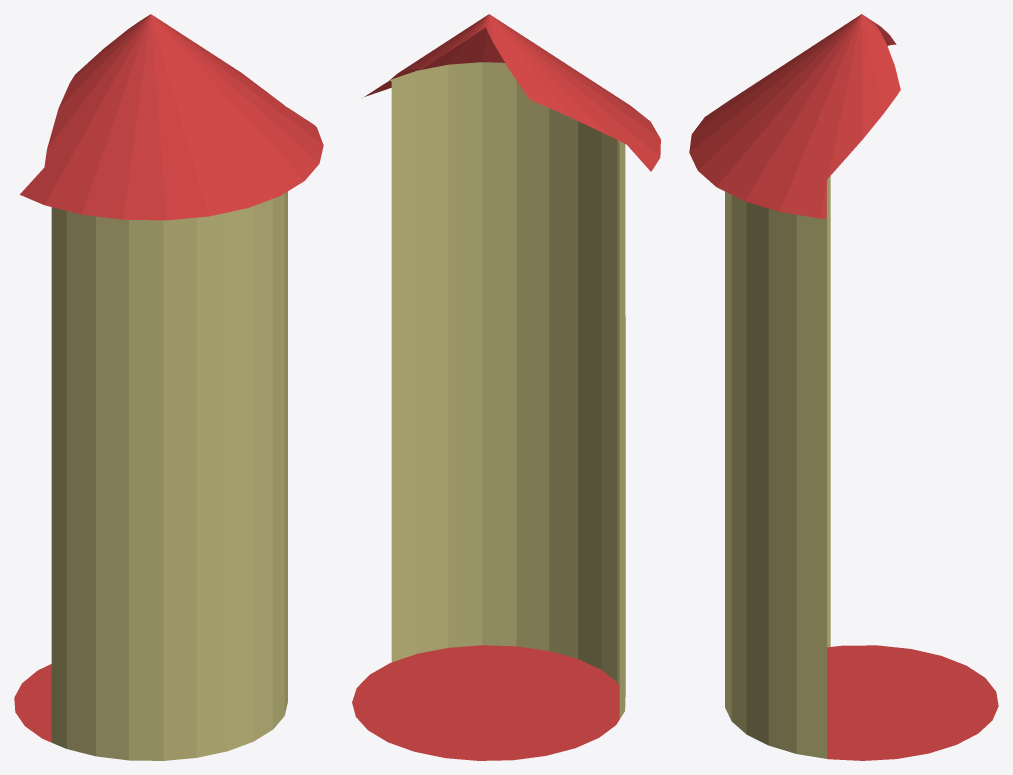
3 renders of one model, left to right at view 1: azimuth 30°, elevation 25°; view 2: azimuth 150°, elevation 25°; view 3: azimuth 270°, elevation 25°, orthographic.
Size of the model in its own units: 9.54 by 8.74 by 21.48.
